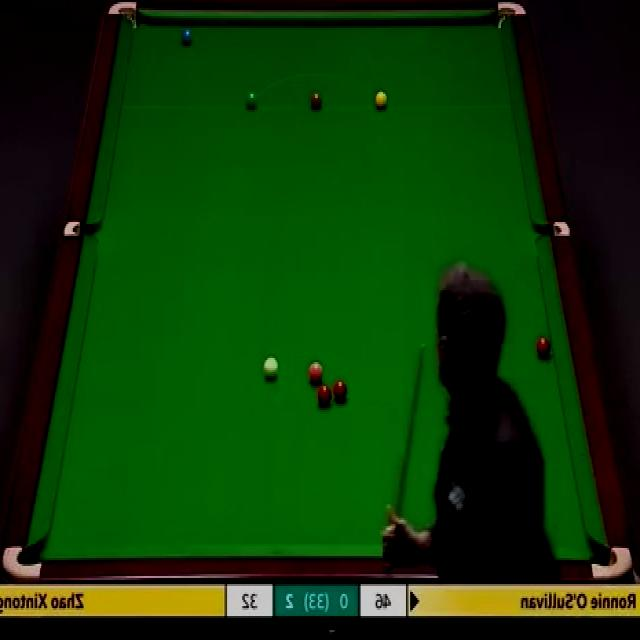pocket: (589, 544, 634, 584), (3, 542, 45, 584), (495, 0, 529, 34), (108, 2, 140, 36), (64, 222, 99, 238), (538, 223, 572, 237)
